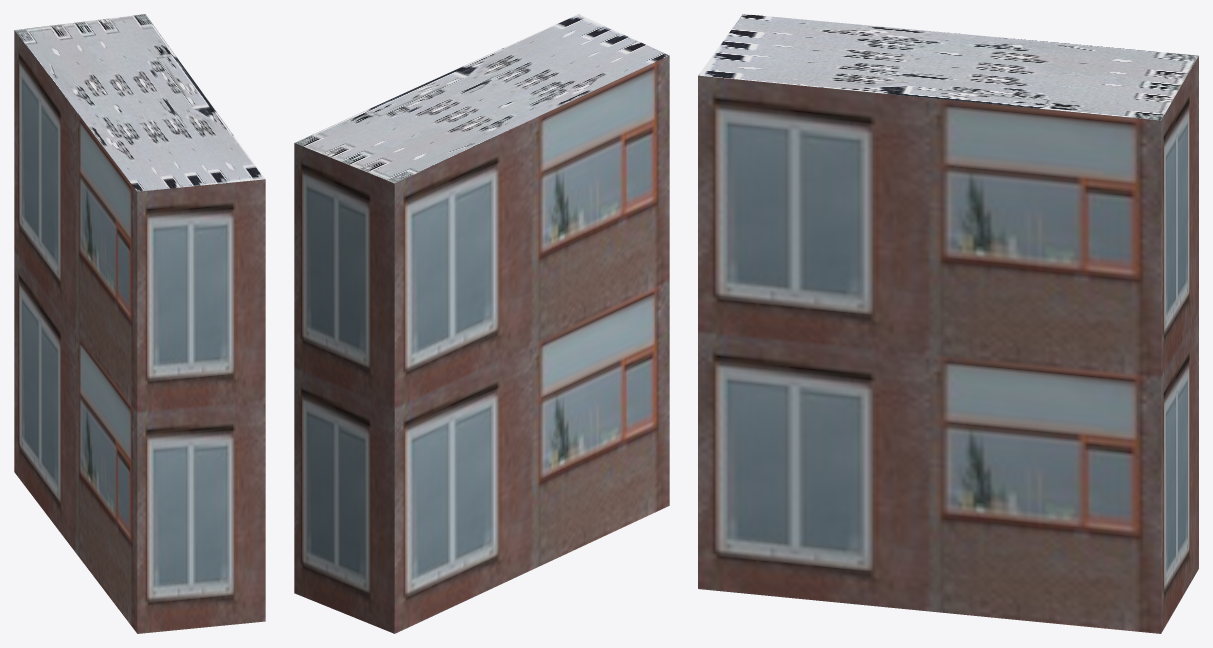
Rendered from ResTex__2620.fbx.
3 renders of one model, left to right at view 1: azimuth 30°, elevation 25°; view 2: azimuth 150°, elevation 25°; view 3: azimuth 270°, elevation 25°, orthographic. The views are drawn at different scales.
Parts seen in each view (by area): view 1: CityEngineMaterial_19_m, CityEngineMaterial_15_m; view 2: CityEngineMaterial_19_m, CityEngineMaterial_15_m; view 3: CityEngineMaterial_19_m, CityEngineMaterial_15_m.
Boxes of the visible parts, <box> form: CityEngineMaterial_19_m: <box>14,30,265,633</box>; CityEngineMaterial_15_m: <box>14,14,264,191</box>; CityEngineMaterial_19_m: <box>294,55,669,633</box>; CityEngineMaterial_15_m: <box>295,14,668,183</box>; CityEngineMaterial_19_m: <box>698,56,1198,633</box>; CityEngineMaterial_15_m: <box>698,14,1198,120</box>.
Size of the model in its own units: 2.67 by 6 by 5.3.
Materials: 2 (2 with a texture image).
